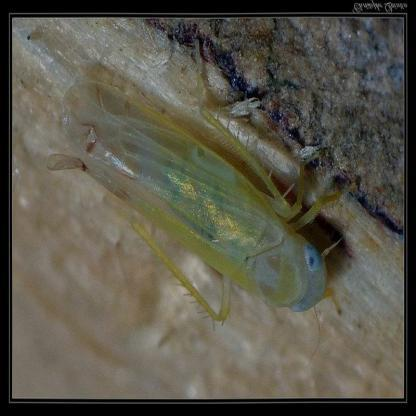green-leafhopper: (62, 101, 339, 320)
